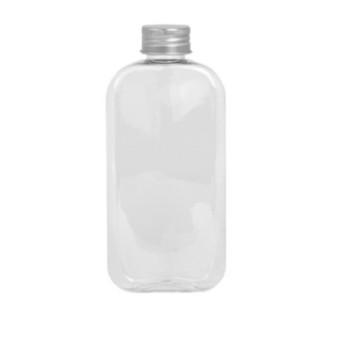plastic_bottle: (99, 22, 236, 299)
